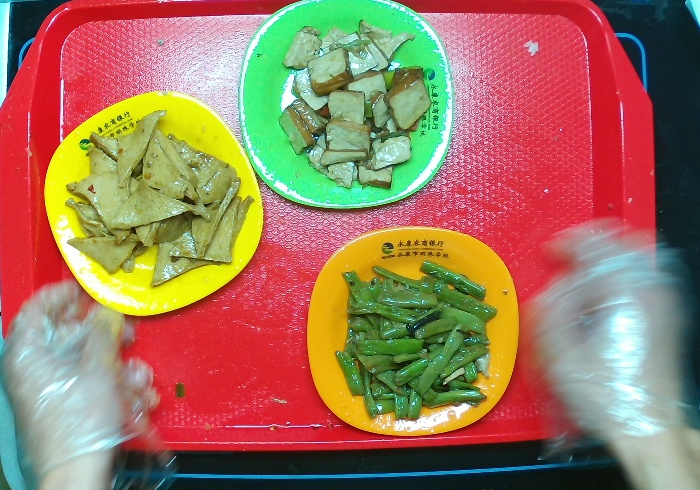YKMZ-Huang_Se_Fang_Die: (33, 85, 276, 324)
YKMZ-Ju_Se_Fang_Die: (297, 218, 540, 457)
YKMZ-Lv_Se_Fang_Die: (234, 1, 464, 218)
